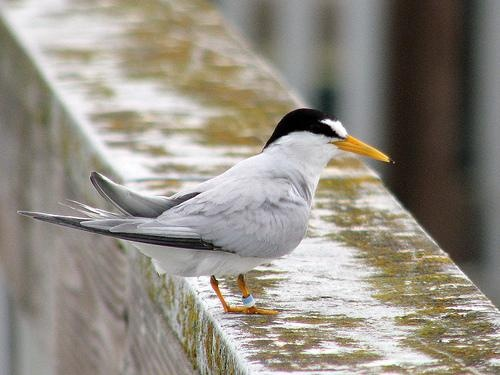bird: (15, 108, 397, 313)
